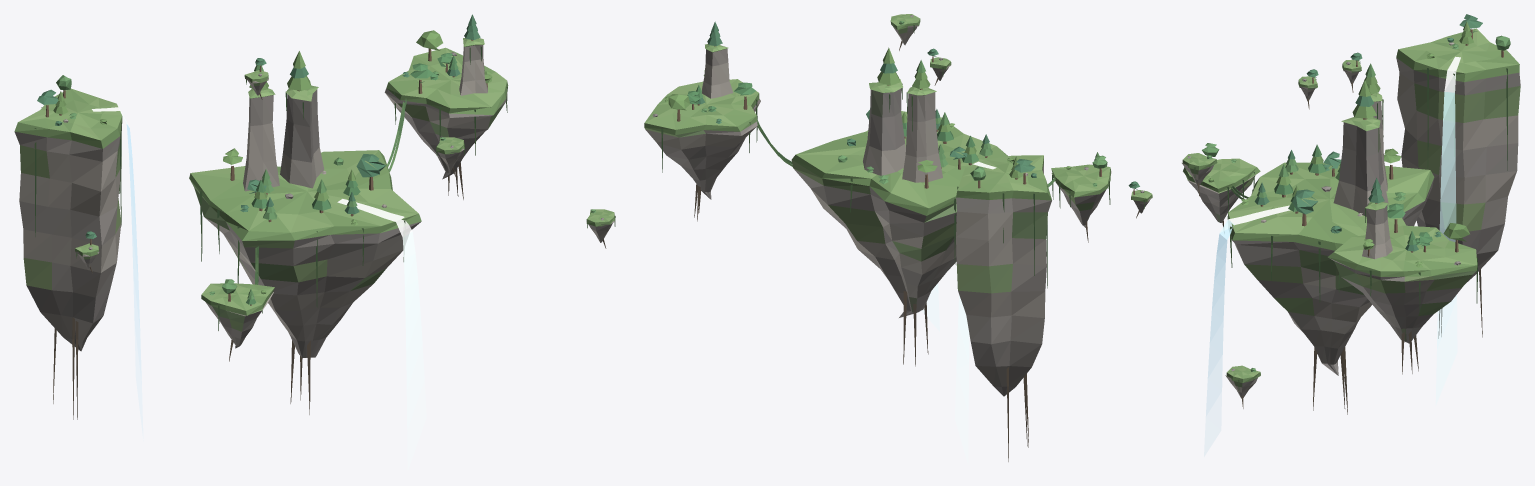
The model's file is ref_skyislands.glb.
3 renders of one model, left to right at view 1: azimuth 30°, elevation 25°; view 2: azimuth 150°, elevation 25°; view 3: azimuth 270°, elevation 25°, orthographic. The views are drawn at different scales.
Visible parts, largest first — view 1: Island_Large_0, Island_Pillar_1, Island_Medium_2, Island_Small_3, Rock_Floating_A_6, Rock_Floating_A_4; view 2: Island_Large_0, Island_Pillar_1, Island_Medium_2, Island_Small_3, Rock_Floating_A_4; view 3: Island_Large_0, Island_Pillar_1, Island_Medium_2, Island_Small_3, Rock_Floating_A_6, Rock_Floating_A_4, Rock_Floating_B_7, Rock_Floating_B_5.
Part boxes in pixels (<box>): Island_Large_0: <box>189,51,425,468</box>; Island_Pillar_1: <box>14,75,142,430</box>; Island_Medium_2: <box>384,14,508,199</box>; Island_Small_3: <box>201,279,274,361</box>; Rock_Floating_A_6: <box>586,209,615,248</box>; Rock_Floating_A_4: <box>436,137,464,176</box>; Island_Large_0: <box>791,47,1007,366</box>; Island_Pillar_1: <box>955,155,1051,461</box>; Island_Medium_2: <box>644,21,760,221</box>; Island_Small_3: <box>1051,152,1111,242</box>; Rock_Floating_A_4: <box>890,14,920,50</box>; Island_Large_0: <box>1204,63,1434,455</box>; Island_Pillar_1: <box>1396,14,1520,403</box>; Island_Medium_2: <box>1328,178,1477,374</box>; Island_Small_3: <box>1183,143,1260,227</box>; Rock_Floating_A_6: <box>1225,365,1260,408</box>; Rock_Floating_A_4: <box>1182,153,1217,196</box>; Rock_Floating_B_7: <box>1298,69,1318,109</box>; Rock_Floating_B_5: <box>1342,52,1362,92</box>.
Size of the model in its own units: 52.5 by 39.31 by 30.94.
